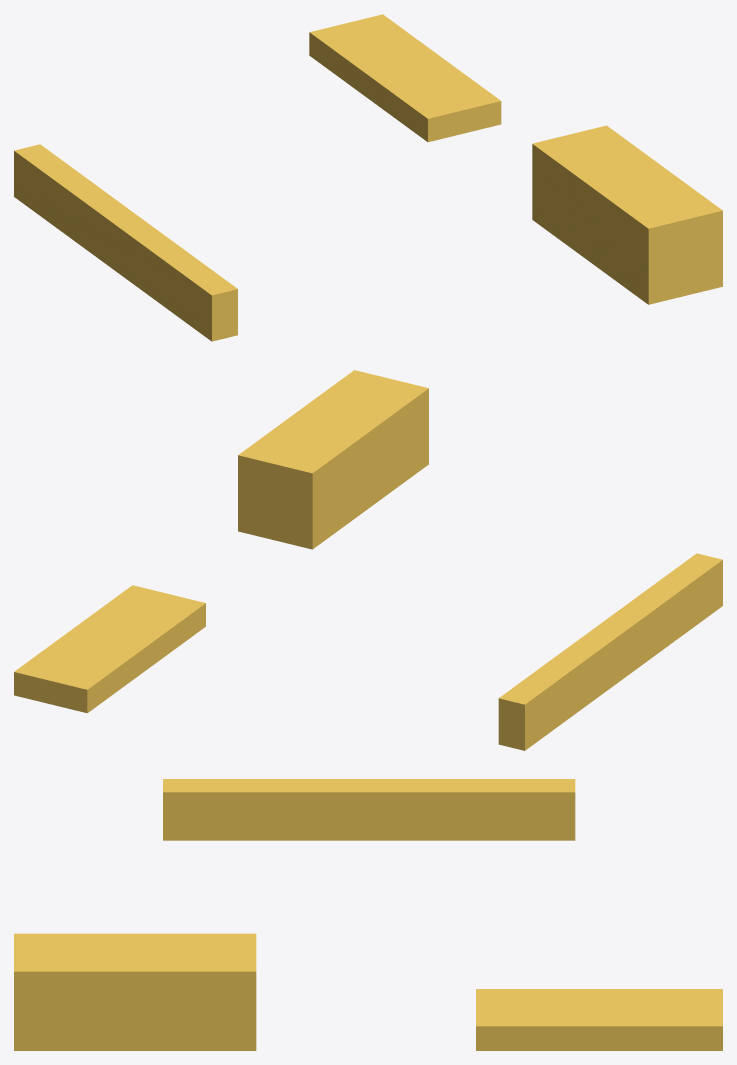
Rendered from Entrance.fbx.
The picture shows the model from 3 angles, top to bottom: view 1: azimuth 30°, elevation 25°; view 2: azimuth 150°, elevation 25°; view 3: azimuth 270°, elevation 25°; orthographic projection. The views are drawn at different scales.
Visible parts, largest first — view 1: Entrance_2; view 2: Entrance_2; view 3: Entrance_2.
Boxes of the visible parts, x1=… form: Entrance_2: x1=14, y1=14, x2=722, y2=341; Entrance_2: x1=14, y1=370, x2=722, y2=750; Entrance_2: x1=14, y1=779, x2=722, y2=1050.
Bounding box in the file's own units: 4520 × 748 × 6057.
